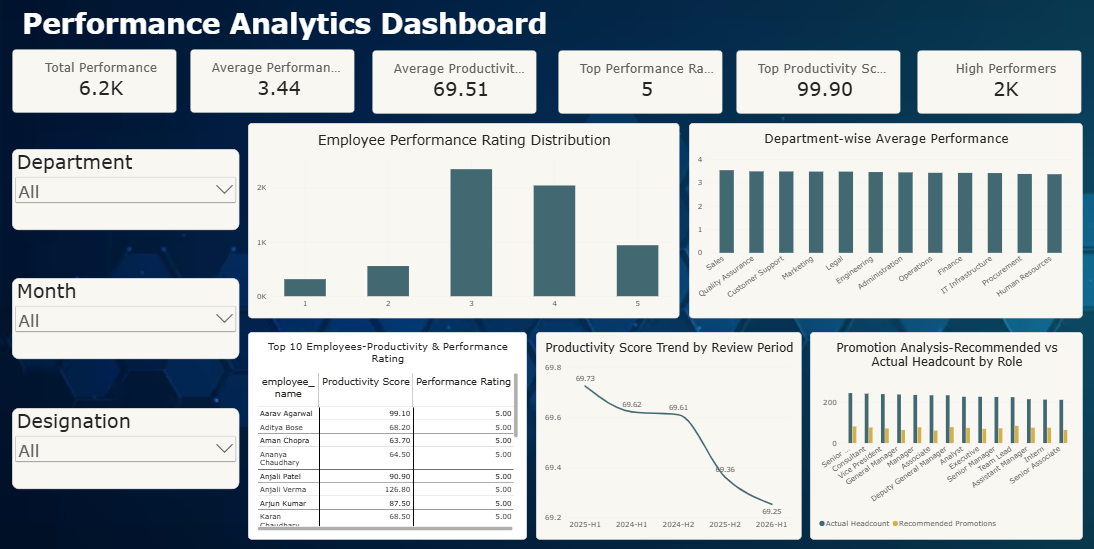

The page's visual inventory and layout, read from the dashboard file:
{"tool":"powerbi","page":{"name":"Performance Analytics","canvas":[2120,1080],"ordinal":4},"visuals":[{"type":"textbox","box":[42.5,19.1,1213.9,76.5],"z":0},{"type":"clusteredColumnChart","title":"Employee Performance Rating Distribution","fields":{"Category":["performance_reviews_cleaned.performance_rating"],"Y":["CountNonNull(performance_reviews_cleaned.employee_id)"]},"box":[480.7,246.3,835.4,378.3],"z":1000},{"type":"clusteredColumnChart","title":"Department-wise Average Performance","fields":{"Category":["departments_cleaned.department_name"],"Y":["performance_reviews_cleaned.Average Performance"]},"box":[1333.9,246.3,762.5,378.3],"z":2000},{"type":"lineChart","title":"Productivity Score Trend by Review Period","fields":{"Category":["performance_reviews_cleaned.review_period"],"Y":["performance_reviews_cleaned.Average Productivity Score"]},"box":[1038.3,650.2,514.2,401.9],"z":3000},{"type":"clusteredColumnChart","title":"Promotion Analysis-Recommended vs Actual Headcount by Role","fields":{"Category":["employees_cleaned.designation"],"Y":["performance_reviews_cleaned.Actual Headcount","performance_reviews_cleaned.Recommended Promotions"]},"box":[1568.3,650.2,528,401.9],"z":4000},{"type":"tableEx","title":"Top 10 Employees-Productivity & Performance Rating","fields":{"Values":["employees_cleaned.employee_name","performance_reviews_cleaned.Productivity Score","performance_reviews_cleaned.Performance Rating"]},"box":[480.7,650.2,539.9,401.9],"z":5000},{"type":"cardVisual","fields":{"Data":["performance_reviews_cleaned.Total Performance"]},"box":[23.6,102.5,319.2,124.1],"z":6000},{"type":"cardVisual","fields":{"Data":["performance_reviews_cleaned.Average Performance Rating"]},"box":[368.4,102.5,319.2,124.1],"z":7000},{"type":"cardVisual","fields":{"Data":["performance_reviews_cleaned.Average Productivity Score"]},"box":[719.1,104.4,319.2,124.1],"z":8000},{"type":"cardVisual","fields":{"Data":["performance_reviews_cleaned.Top Performance Rating"]},"box":[1080.5,104.9,319.2,124.1],"z":9000},{"type":"cardVisual","fields":{"Data":["performance_reviews_cleaned.Top Productivity Score"]},"box":[1424.7,104.9,319.2,124.1],"z":10000},{"type":"cardVisual","fields":{"Data":["performance_reviews_cleaned.High Performers"]},"box":[1775.8,104.9,319.2,124.1],"z":11000},{"type":"slicer","fields":{"Values":["departments_cleaned.department_name"]},"box":[23.6,295.5,440,157.3],"z":12000},{"type":"slicer","fields":{"Values":["DateTable.Date.Variation.Date Hierarchy.Month"]},"box":[23.6,545.8,440,157.3],"z":13000},{"type":"slicer","fields":{"Values":["employees_cleaned.designation"]},"box":[23.6,798,440,157.3],"z":14000}]}

Visuals, with their boxes in screenshot pixels (x1, y1, x2, y2), scaled from the page's 2120x1080 canvas onto the 1094x549 screenshot:
textbox: [22,10,648,49]
"Employee Performance Rating Distribution" clusteredColumnChart: [248,125,679,318]
"Department-wise Average Performance" clusteredColumnChart: [688,125,1082,318]
"Productivity Score Trend by Review Period" lineChart: [536,331,801,535]
"Promotion Analysis-Recommended vs Actual Headcount by Role" clusteredColumnChart: [809,331,1082,535]
"Top 10 Employees-Productivity & Performance Rating" tableEx: [248,331,527,535]
cardVisual - performance_reviews_cleaned.Total Performance: [12,52,177,115]
cardVisual - performance_reviews_cleaned.Average Performance Rating: [190,52,355,115]
cardVisual - performance_reviews_cleaned.Average Productivity Score: [371,53,536,116]
cardVisual - performance_reviews_cleaned.Top Performance Rating: [558,53,722,116]
cardVisual - performance_reviews_cleaned.Top Productivity Score: [735,53,900,116]
cardVisual - performance_reviews_cleaned.High Performers: [916,53,1081,116]
slicer - departments_cleaned.department_name: [12,150,239,230]
slicer - DateTable.Date.Variation.Date Hierarchy.Month: [12,277,239,357]
slicer - employees_cleaned.designation: [12,406,239,486]
